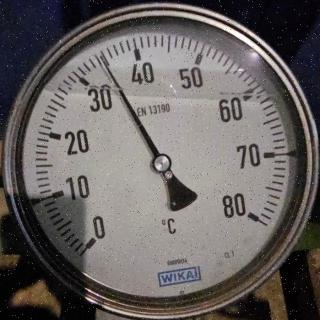gauge: (0, 0, 320, 320), (216, 185, 272, 243), (70, 211, 118, 263), (150, 152, 174, 174), (93, 49, 109, 65)
